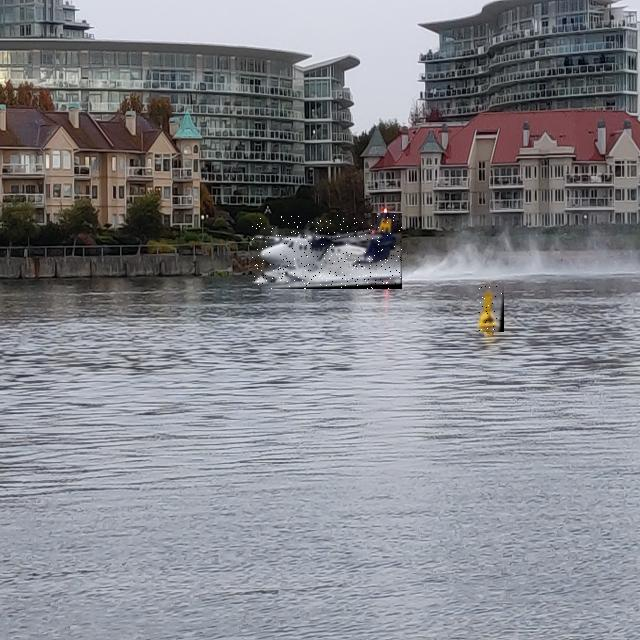aircraft: (252, 213, 402, 289)
mark: (479, 286, 504, 332)
